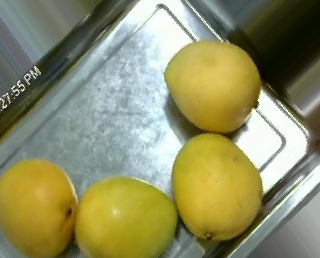Mango: (172, 133, 263, 239), (164, 40, 261, 132), (74, 177, 179, 258), (0, 157, 76, 258)
